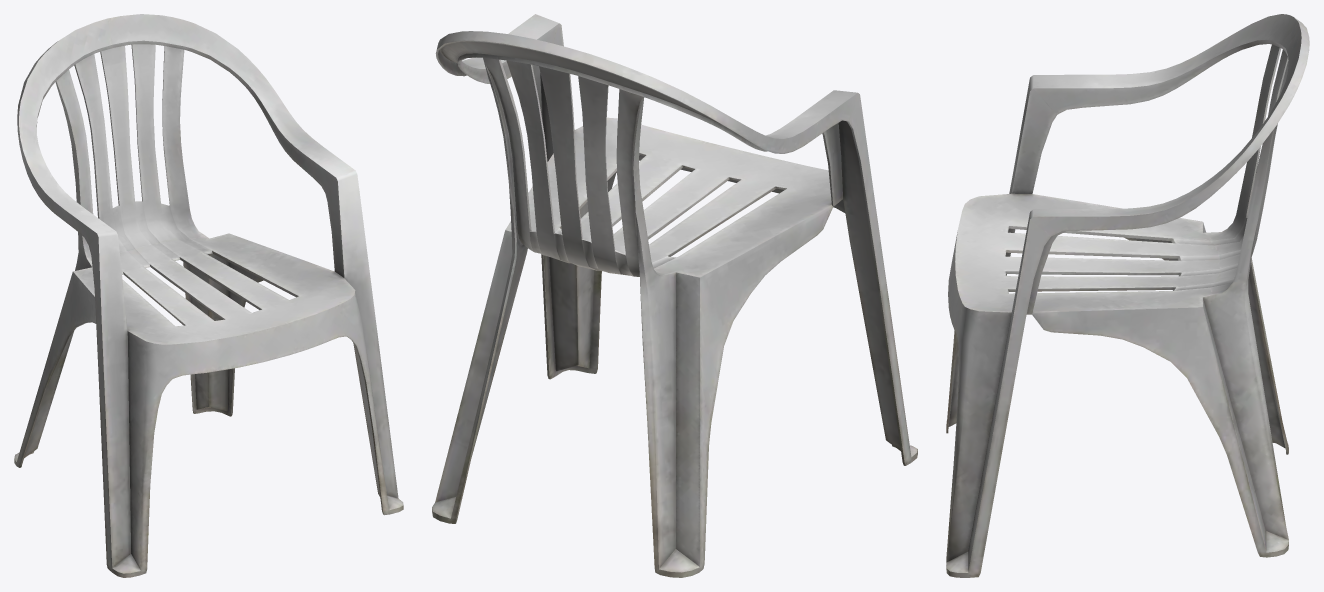
File: plastic_monobloc_chair_01.glb
3 renders of one model, left to right at view 1: azimuth 30°, elevation 25°; view 2: azimuth 150°, elevation 25°; view 3: azimuth 270°, elevation 25°, orthographic. The views are drawn at different scales.
Visible parts, largest first — view 1: plastic_monobloc_chair_01; view 2: plastic_monobloc_chair_01; view 3: plastic_monobloc_chair_01.
Part boxes in pixels (x1,y1,x2,y2): plastic_monobloc_chair_01: (14,14,403,577); plastic_monobloc_chair_01: (432,14,917,577); plastic_monobloc_chair_01: (946,14,1309,577).
Bounding box in the file's own units: 0.6418 × 0.8798 × 0.6276.
1 material, 1 textured.
